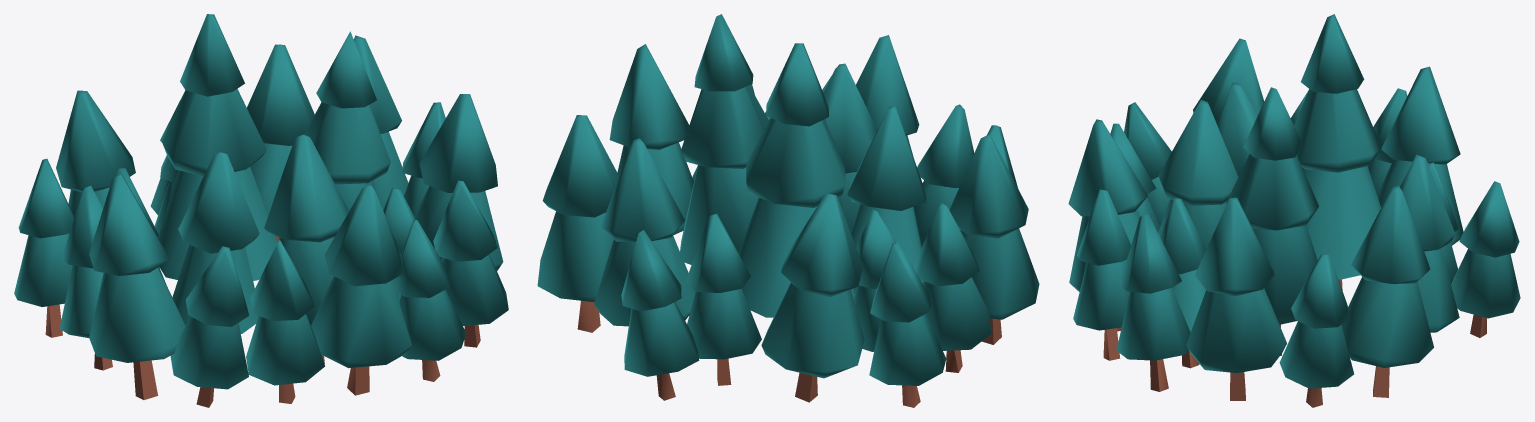
File: forest_Lod1.fbx
3 views of the same model, side by side, from view 1: azimuth 30°, elevation 25°; view 2: azimuth 150°, elevation 25°; view 3: azimuth 270°, elevation 25° (orthographic). The views are drawn at different scales.
Visible parts, largest first — view 1: forest; view 2: forest; view 3: forest.
Boxes of the visible parts, left/top/right/bottom form: forest: left=14, top=14, right=508, bottom=407; forest: left=537, top=14, right=1039, bottom=407; forest: left=1068, top=14, right=1520, bottom=407.
Bounding box in the file's own units: 192 × 136 × 189.
